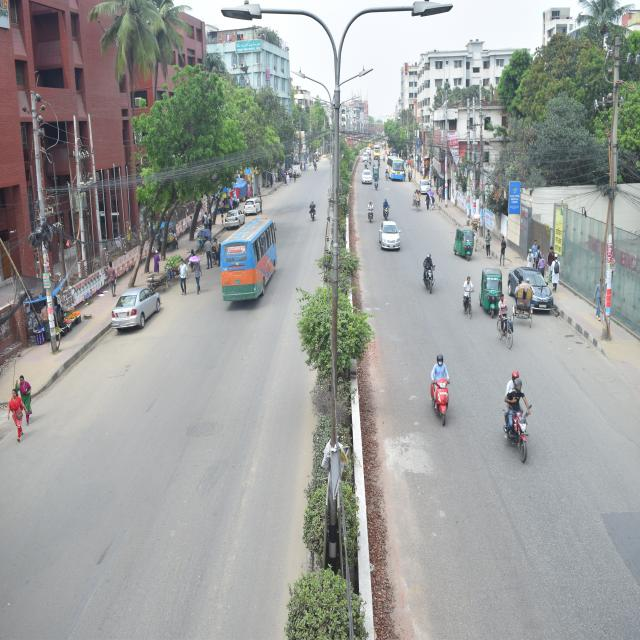bus: (388, 148, 408, 201)
car: (508, 258, 564, 343), (95, 289, 173, 350), (377, 218, 404, 259), (215, 207, 255, 230), (240, 190, 270, 217), (419, 176, 442, 206), (362, 163, 374, 192)
motorbike: (488, 359, 545, 477), (423, 348, 460, 442), (415, 250, 443, 300), (206, 232, 226, 278), (379, 187, 396, 230), (304, 190, 317, 232), (364, 188, 374, 234), (311, 155, 321, 181), (382, 159, 390, 183)
